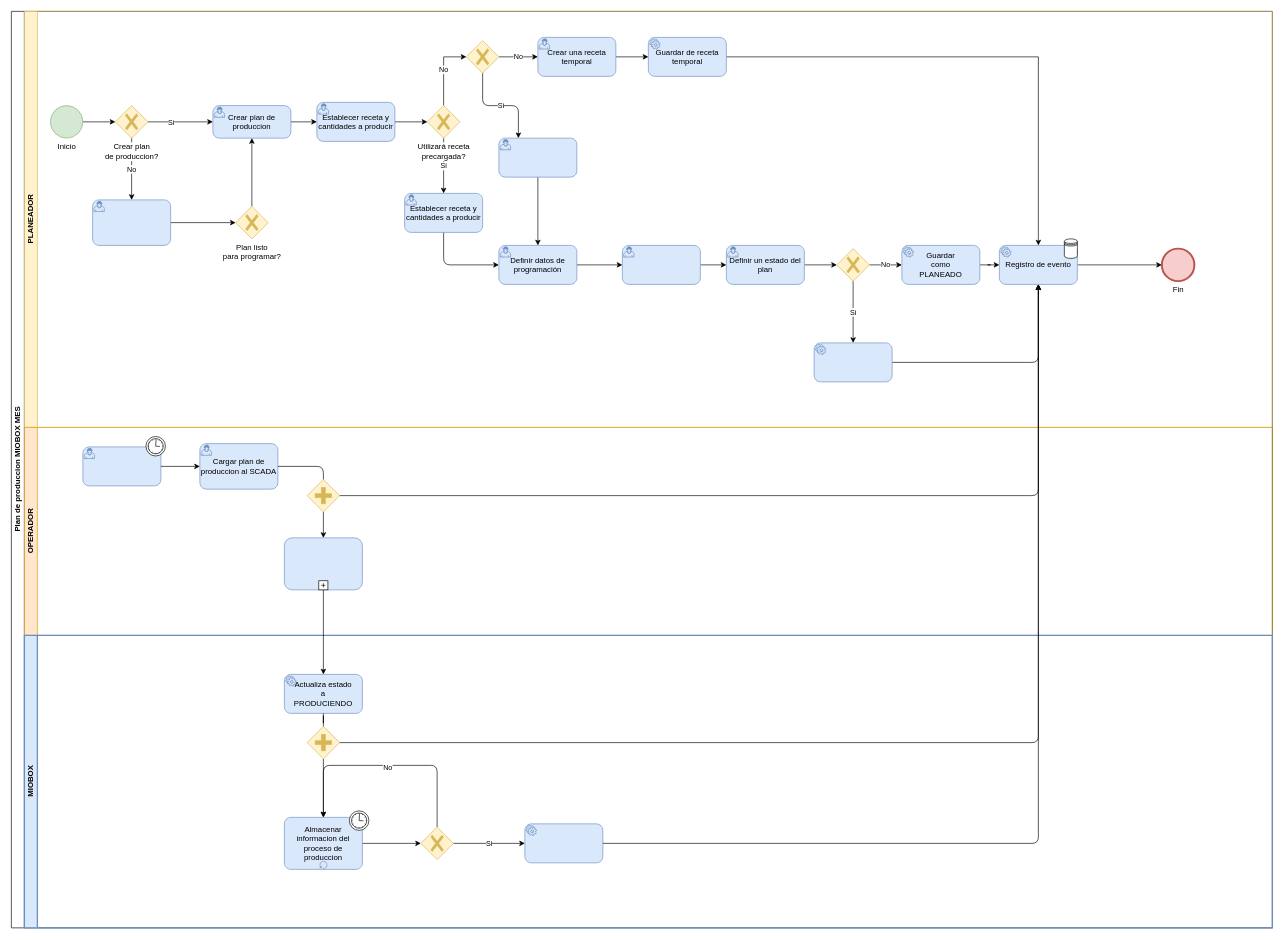
The diagram is 1284 pixels wide and 940 high, and some of its shapes have lost their labels. Here are the shapes that lost their labels. From the top down, the centre of each, then its label:
At pixel 482 56: "Modificará una receta?".
At pixel 537 157: "Modificar receta".
At pixel 131 222: "Verificar en calendario producciones planeadas".
At pixel 661 264: "Definir linea de producción".
At pixel 852 264: "Define estado planeado?".
At pixel 852 362: "Guardar como PROGRAMADO".
At pixel 121 466: "Verificar en el calendario producciones programadas".
At pixel 323 563: "Subproceso de produccion".
At pixel 436 843: "El proceso de produccion ha terminado?".
At pixel 563 843: "Actualiza estado a TERMINADO".
